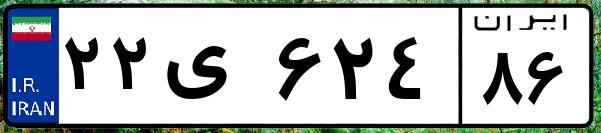2: (330, 28, 385, 110), (57, 26, 110, 100), (110, 28, 158, 98)
4: (385, 28, 445, 110)
6: (270, 28, 330, 110), (525, 38, 570, 115)
8: (475, 38, 525, 113)
ی: (158, 20, 270, 120)
